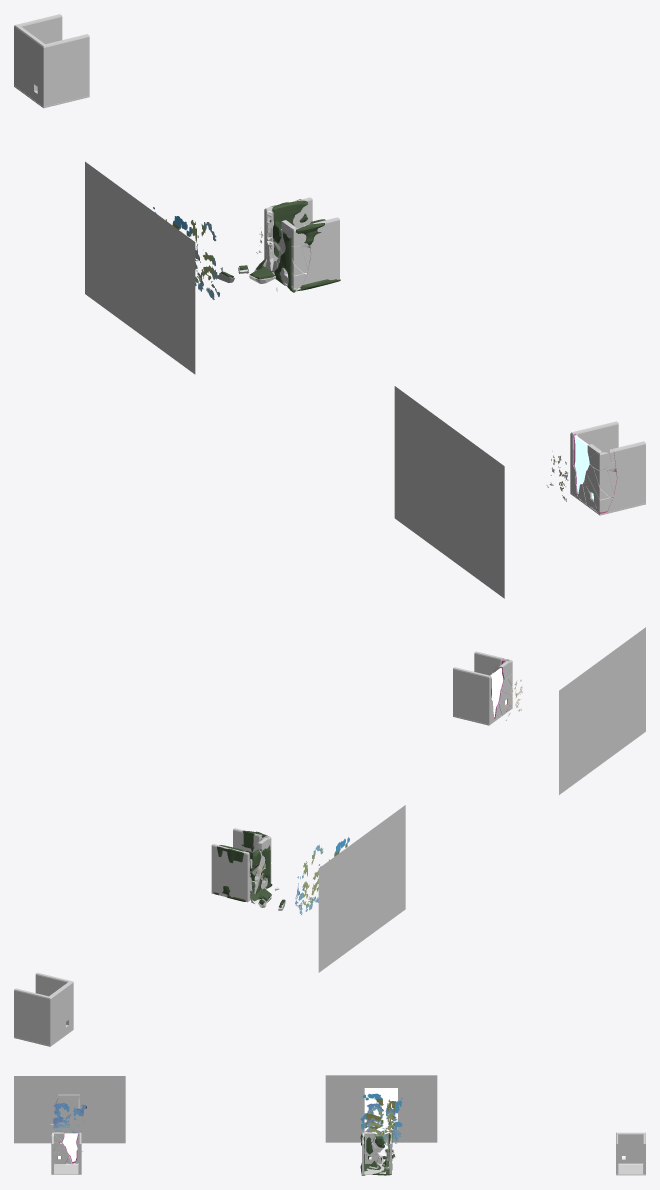
Rendered from DioramaV3.fbx.
3 renders of one model, top to bottom at view 1: azimuth 30°, elevation 25°; view 2: azimuth 150°, elevation 25°; view 3: azimuth 270°, elevation 25°, orthographic. The views are drawn at different scales.
Visible parts, largest first — view 1: Stage02v3, Stage03v3, Stage01v3; view 2: Stage02v3, Stage03v3, Stage01v3; view 3: Stage02v3, Stage03v3, Stage01v3.
Boxes of the visible parts, x1,y1,x2,y2 form: Stage02v3: [85, 161, 340, 374]; Stage03v3: [394, 386, 645, 598]; Stage01v3: [14, 14, 89, 108]; Stage02v3: [211, 805, 405, 972]; Stage03v3: [453, 627, 645, 794]; Stage01v3: [14, 972, 73, 1046]; Stage02v3: [325, 1075, 437, 1175]; Stage03v3: [14, 1076, 125, 1174]; Stage01v3: [616, 1132, 645, 1175].
Size of the model in its own units: 121 by 84.25 by 717.
26 materials, 5 textured.
